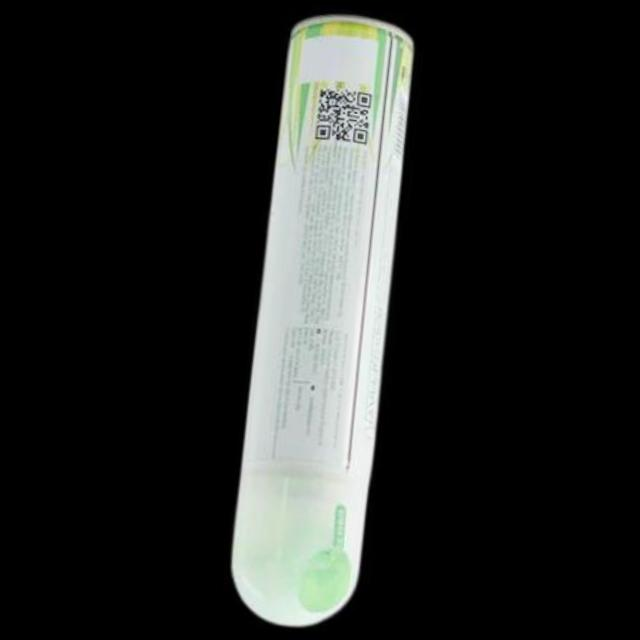Godrej Aer Lush Green Fresh Home Fragrance Spray 220 ml: (216, 4, 434, 636)
